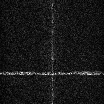wifi: (1, 70, 104, 75)
